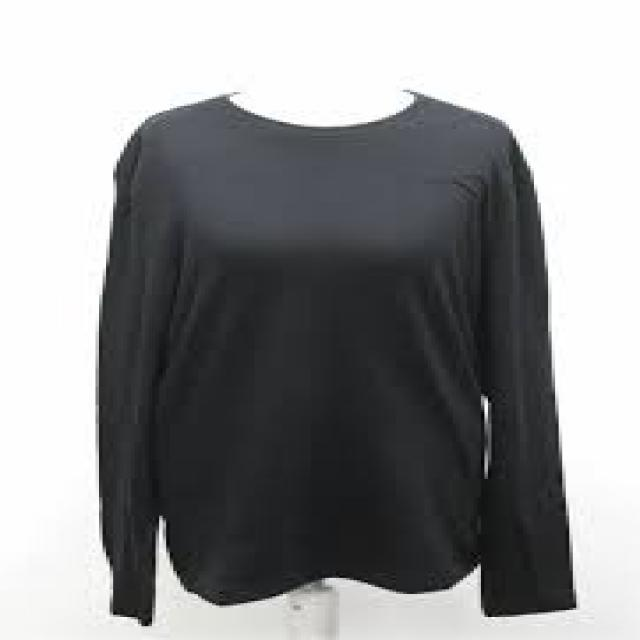plain: (93, 88, 581, 620)
